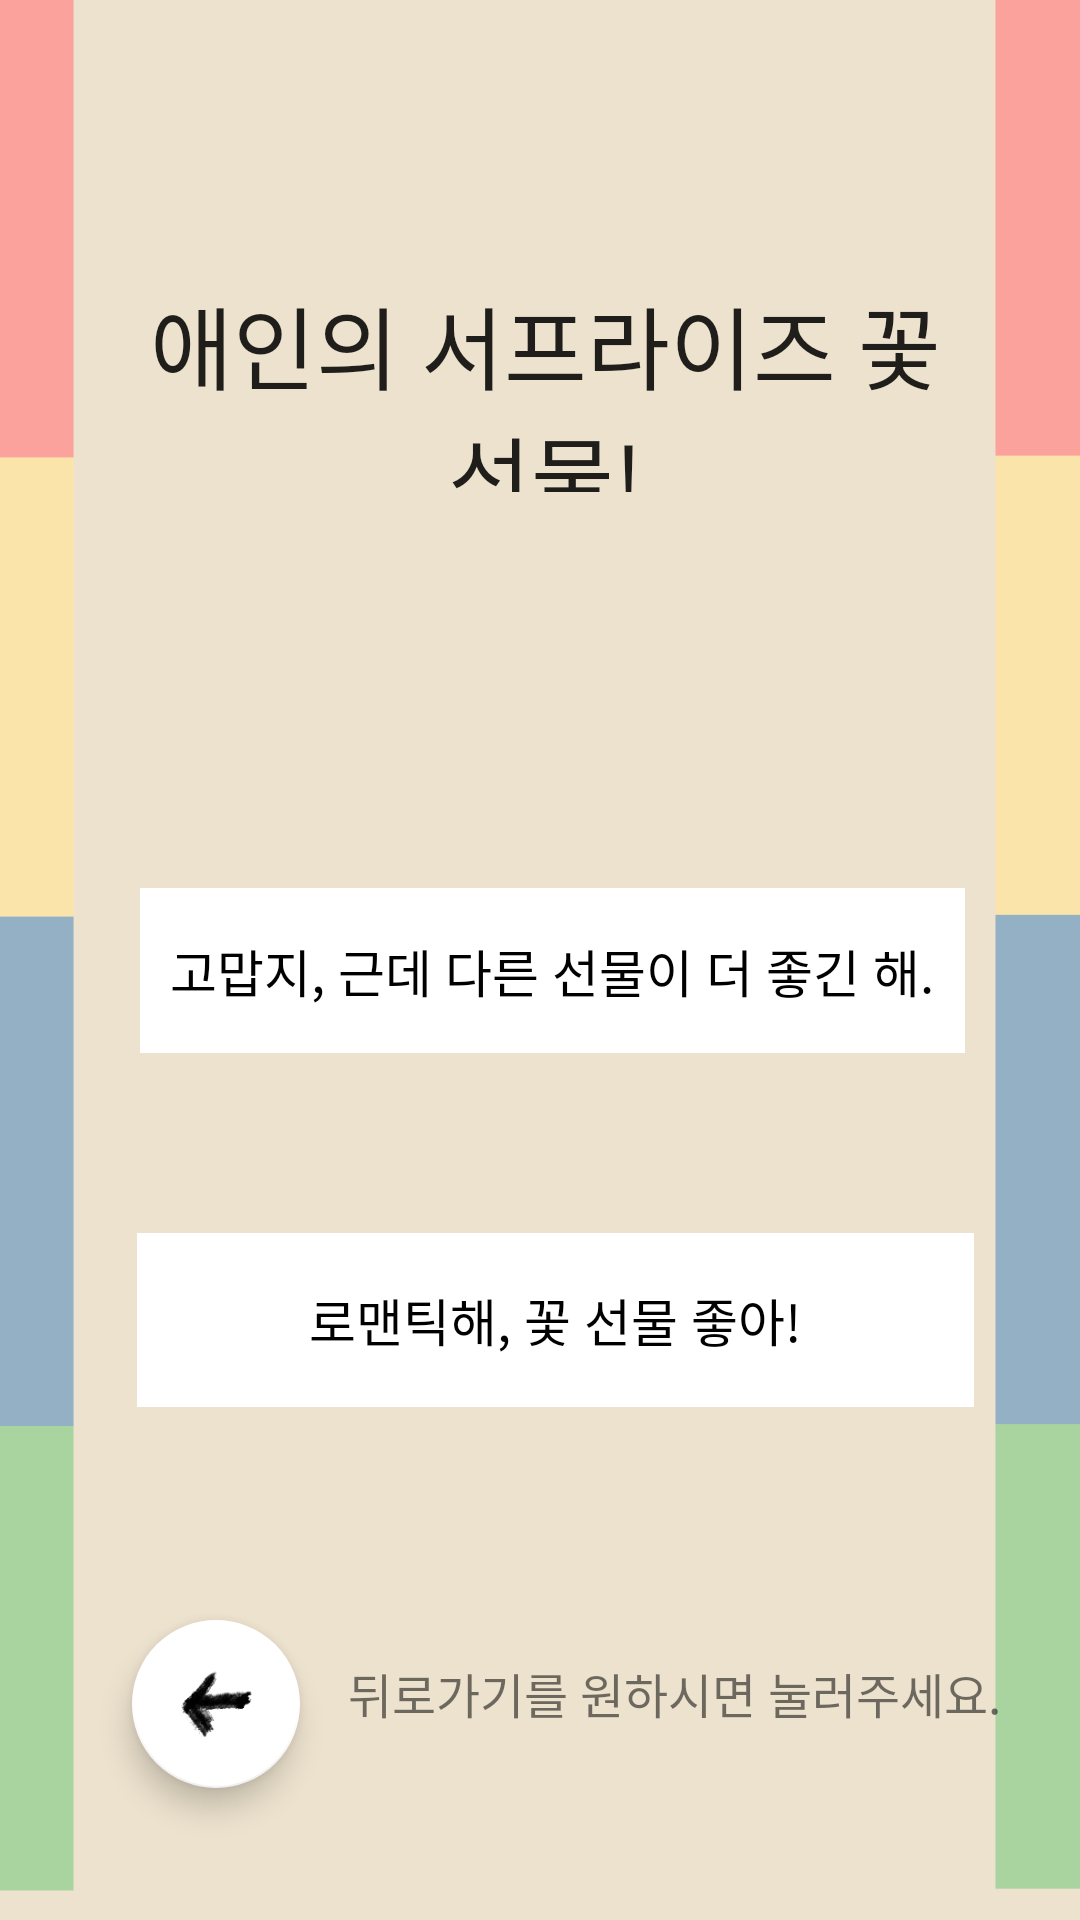

Locate icon controls on the screen. Image size 1080×1920, boxes as (x1, y1, x2, y2).
back: (132, 1620, 300, 1788)
